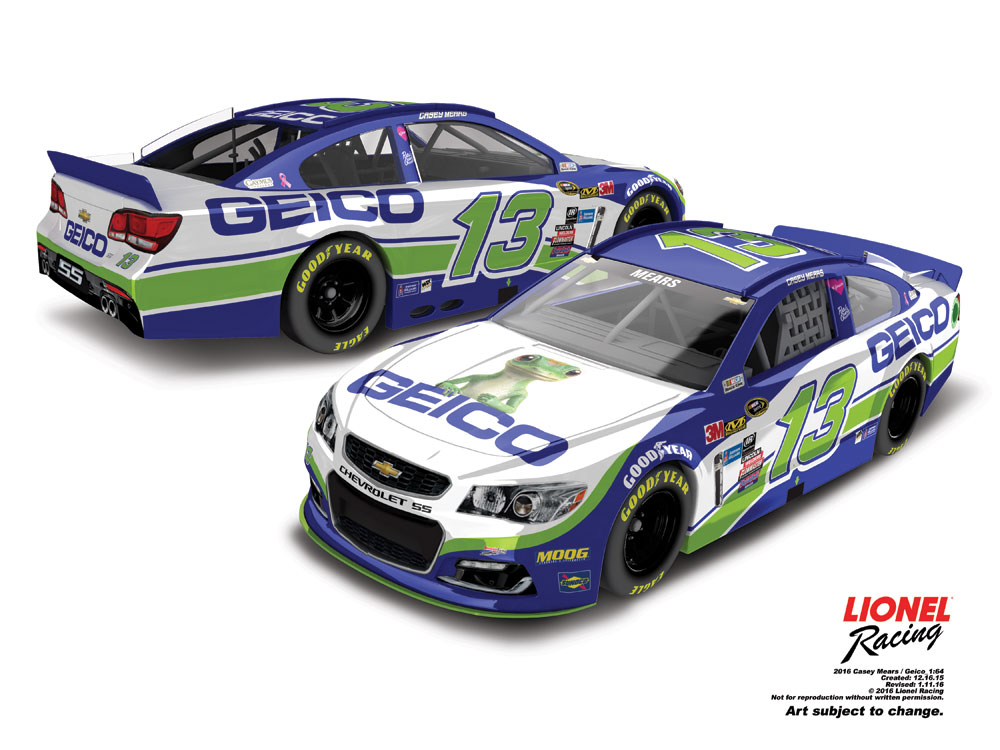Geico: (346, 361, 580, 477), (201, 185, 440, 235), (848, 293, 960, 368)
